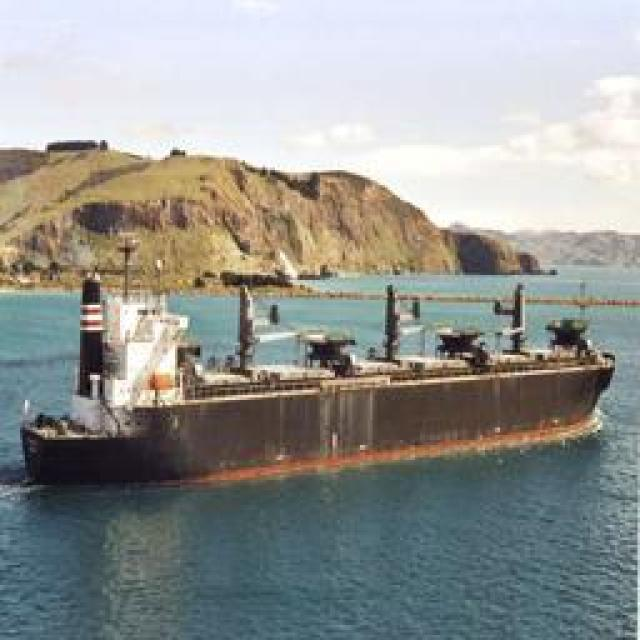CIV_Ship: (11, 281, 629, 481)
